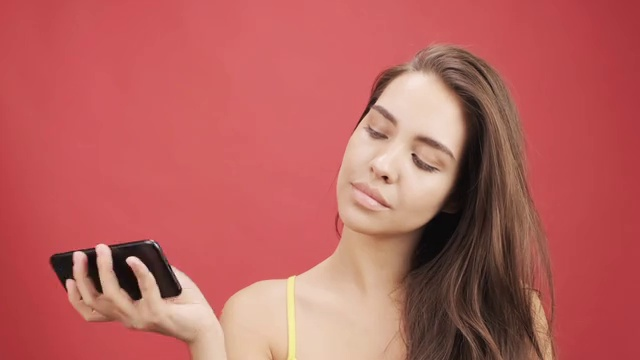phone: (47, 234, 186, 306)
